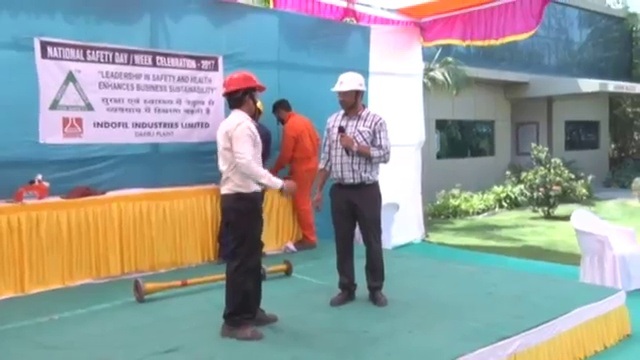helmet: (221, 71, 268, 96), (329, 70, 368, 94)
helmet_off: (269, 97, 294, 126)
helmet_on: (220, 70, 268, 121), (329, 69, 370, 116)
person: (313, 69, 391, 307), (217, 69, 281, 342), (268, 97, 322, 253)
